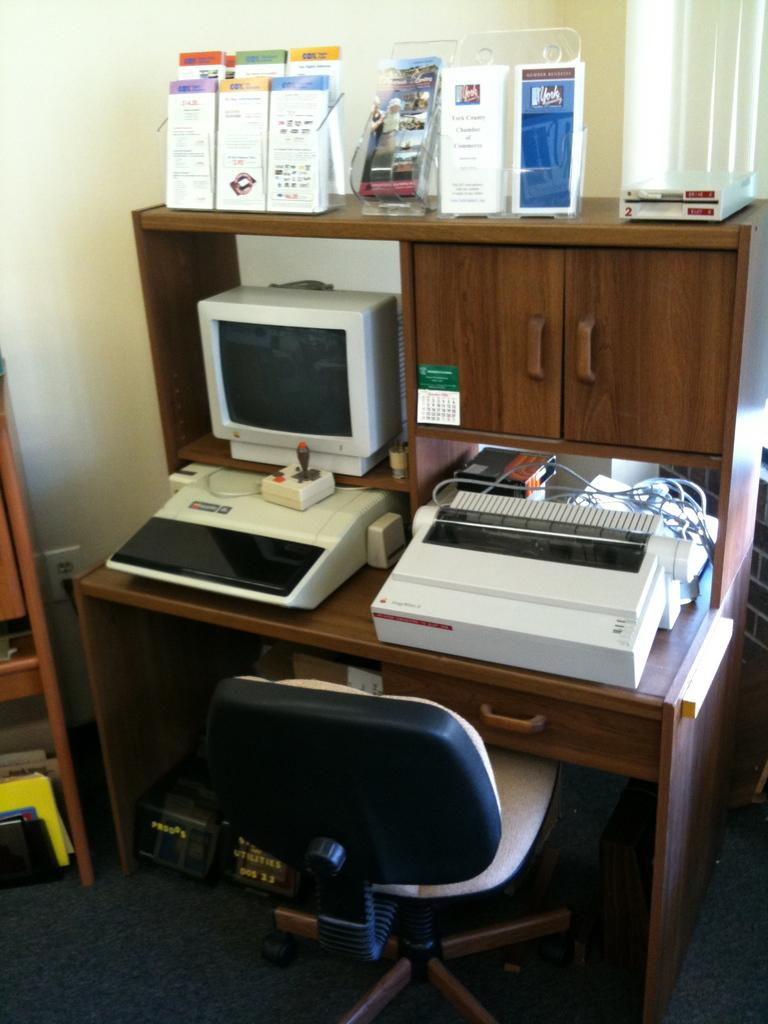Chair: (175, 662, 632, 993)
Computer-monitor: (174, 254, 414, 474)
